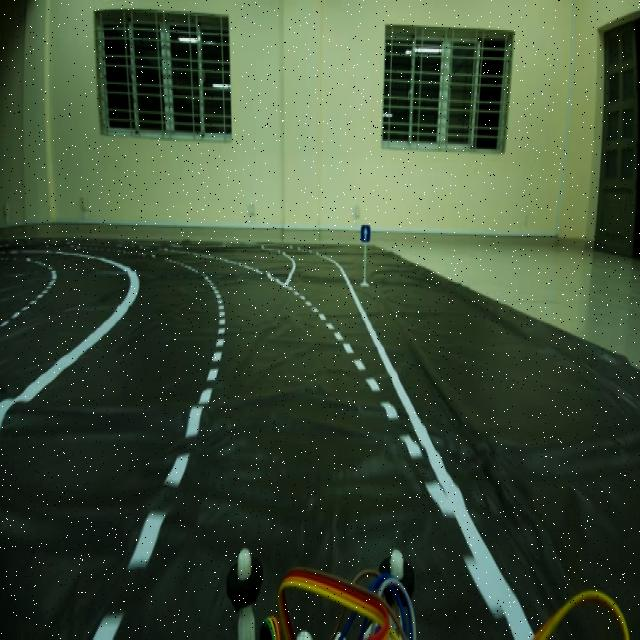onewayroad: (358, 218, 373, 251)
